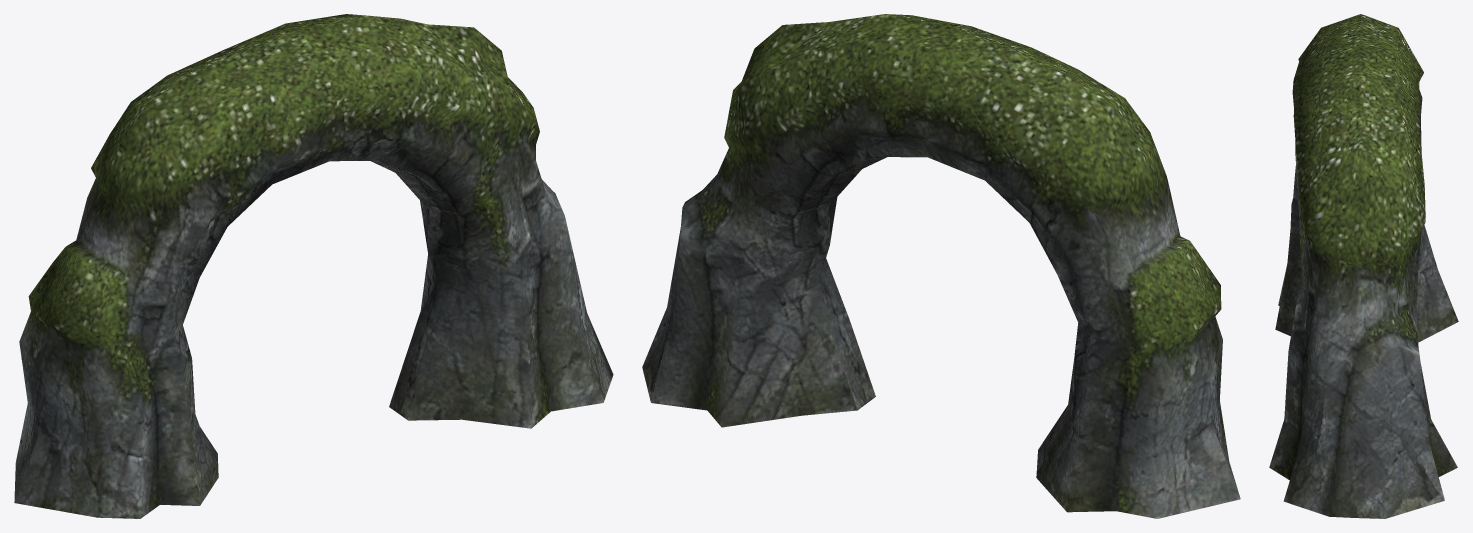
File: moss_rock_01_big.fbx
The picture shows the model from 3 angles, left to right: view 1: azimuth 30°, elevation 25°; view 2: azimuth 150°, elevation 25°; view 3: azimuth 270°, elevation 25°; orthographic projection. The views are drawn at different scales.
Parts seen in each view (by area): view 1: objMoss_rock01_big; view 2: objMoss_rock01_big; view 3: objMoss_rock01_big.
Part boxes in pixels (x1,y1,x2,y2): objMoss_rock01_big: (14, 14, 613, 518); objMoss_rock01_big: (642, 14, 1240, 518); objMoss_rock01_big: (1269, 14, 1458, 518).
Size of the model in its own units: 33.31 by 21.83 by 10.82.
